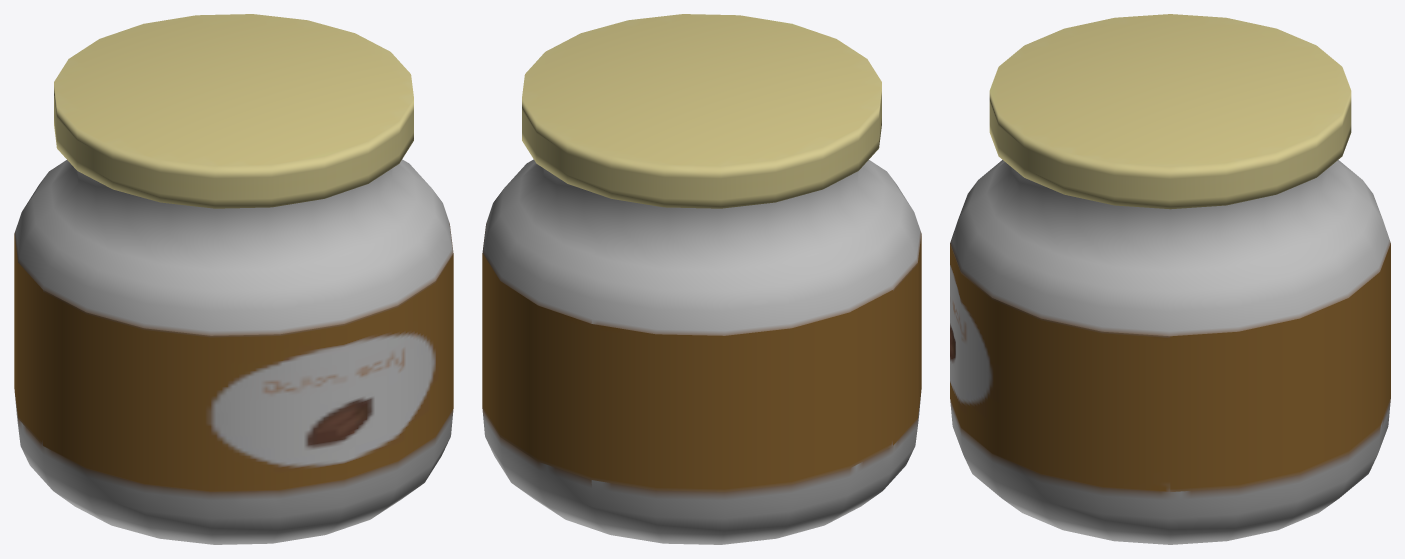
File: pi_peanutbutter03.gltf
3 views of the same model, side by side, from view 1: azimuth 30°, elevation 25°; view 2: azimuth 150°, elevation 25°; view 3: azimuth 270°, elevation 25° (orthographic).
Visible parts, largest first — view 1: pi_peanutbutter03_bottle_outside01_mesh_shape:pi_peanutbutte, pi_peanutbutter03_bottle_label01_mesh_shape:pi_peanutbutter0, pi_peanutbutter03_lid01_mesh_shape:pi_peanutbutter03_main; view 2: pi_peanutbutter03_bottle_outside01_mesh_shape:pi_peanutbutte, pi_peanutbutter03_bottle_label01_mesh_shape:pi_peanutbutter0, pi_peanutbutter03_lid01_mesh_shape:pi_peanutbutter03_main; view 3: pi_peanutbutter03_bottle_outside01_mesh_shape:pi_peanutbutte, pi_peanutbutter03_bottle_label01_mesh_shape:pi_peanutbutter0, pi_peanutbutter03_lid01_mesh_shape:pi_peanutbutter03_main.
Part boxes in pixels (x1,y1,x2,y2): pi_peanutbutter03_bottle_outside01_mesh_shape:pi_peanutbutte: (14, 159, 453, 544); pi_peanutbutter03_bottle_label01_mesh_shape:pi_peanutbutter0: (14, 233, 453, 491); pi_peanutbutter03_lid01_mesh_shape:pi_peanutbutter03_main: (54, 14, 413, 208); pi_peanutbutter03_bottle_outside01_mesh_shape:pi_peanutbutte: (482, 159, 921, 544); pi_peanutbutter03_bottle_label01_mesh_shape:pi_peanutbutter0: (482, 233, 921, 491); pi_peanutbutter03_lid01_mesh_shape:pi_peanutbutter03_main: (522, 14, 881, 208); pi_peanutbutter03_bottle_outside01_mesh_shape:pi_peanutbutte: (950, 160, 1390, 544); pi_peanutbutter03_bottle_label01_mesh_shape:pi_peanutbutter0: (950, 243, 1390, 491); pi_peanutbutter03_lid01_mesh_shape:pi_peanutbutter03_main: (989, 14, 1351, 209).
Size of the model in its own units: 0.0892 by 0.0842 by 0.0892.
Materials: 2 (2 with a texture image).
